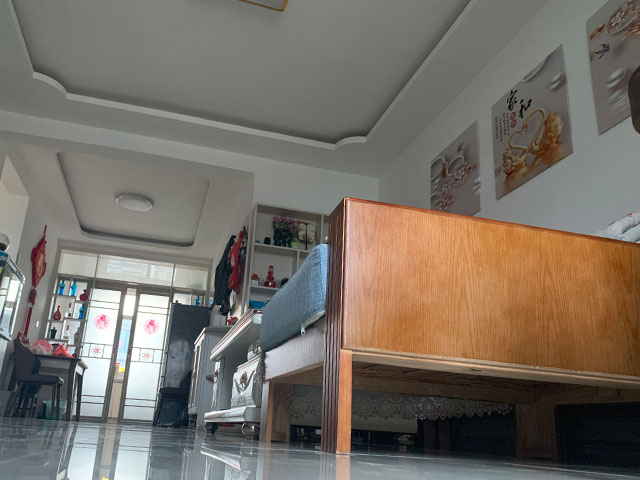sofa: (257, 193, 640, 457)
stool: (2, 338, 66, 421)
table: (202, 305, 261, 440), (20, 354, 88, 423)
